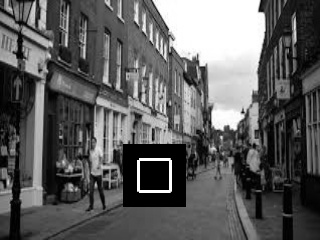square: (123, 144, 186, 208)
